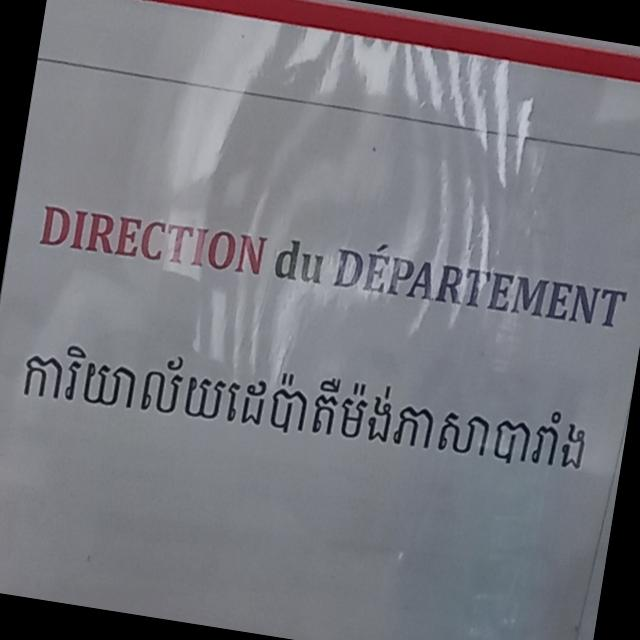Yolov11kh: (10, 333, 608, 494)
